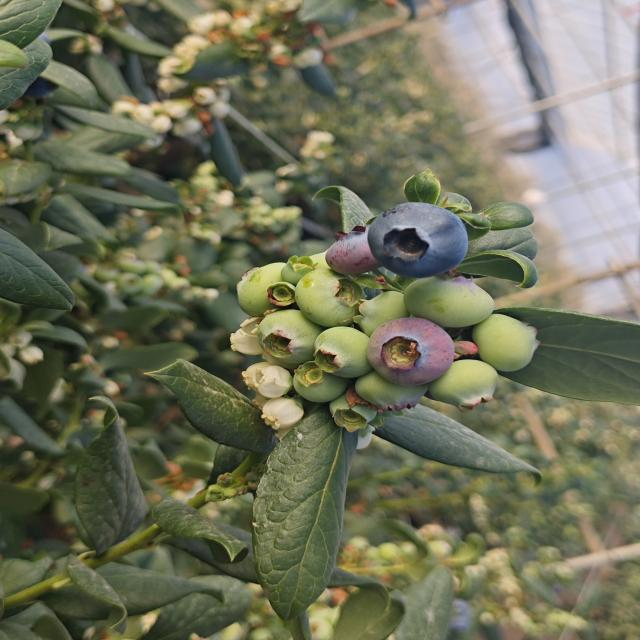ripe: (364, 200, 471, 280)
